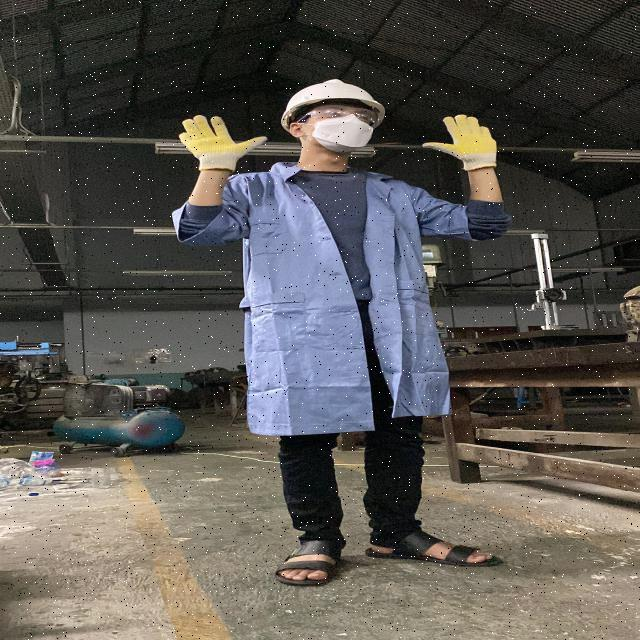Hard_hat: (278, 73, 388, 120)
Person: (167, 78, 502, 588)
